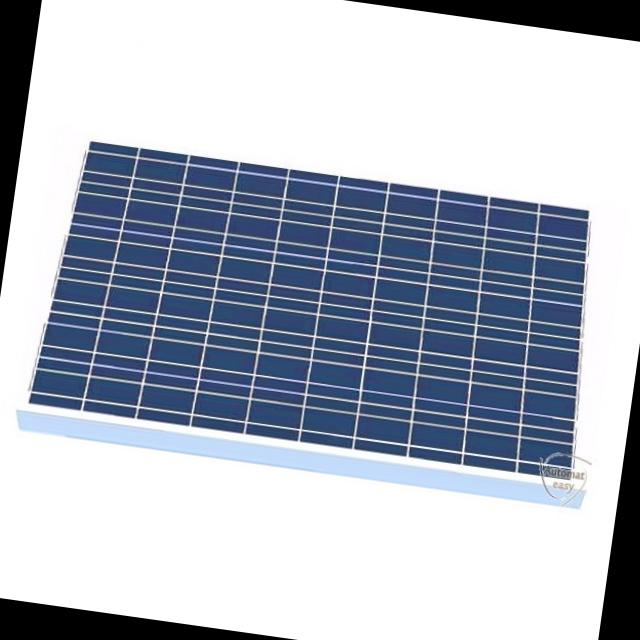no faulty: (47, 144, 598, 474)
